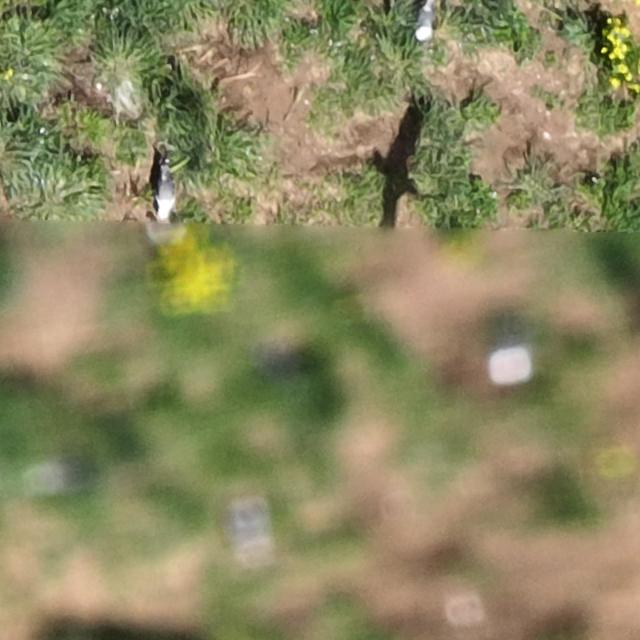umineko: (156, 173, 175, 217), (415, 2, 434, 40)
